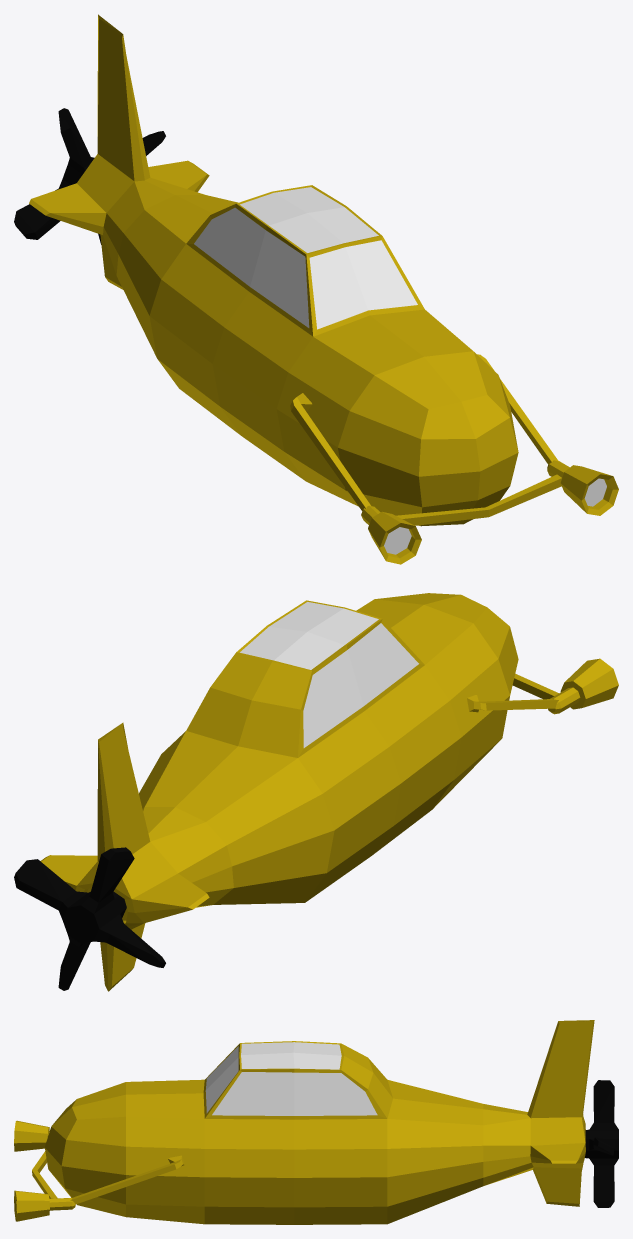
File: submarine.glb
The picture shows the model from 3 angles, top to bottom: view 1: azimuth 30°, elevation 25°; view 2: azimuth 150°, elevation 25°; view 3: azimuth 270°, elevation 25°; orthographic projection. The views are drawn at different scales.
Parts seen in each view (by area): view 1: submarine, propeller; view 2: submarine, propeller; view 3: submarine, propeller.
Part boxes in pixels (bbox=[...]): submarine: bbox=[29, 14, 618, 564]; propeller: bbox=[14, 108, 165, 244]; submarine: bbox=[40, 593, 618, 991]; propeller: bbox=[14, 847, 165, 990]; submarine: bbox=[14, 1020, 594, 1224]; propeller: bbox=[585, 1080, 618, 1207].
Size of the model in its own units: 3.06 by 3.21 by 9.32.
